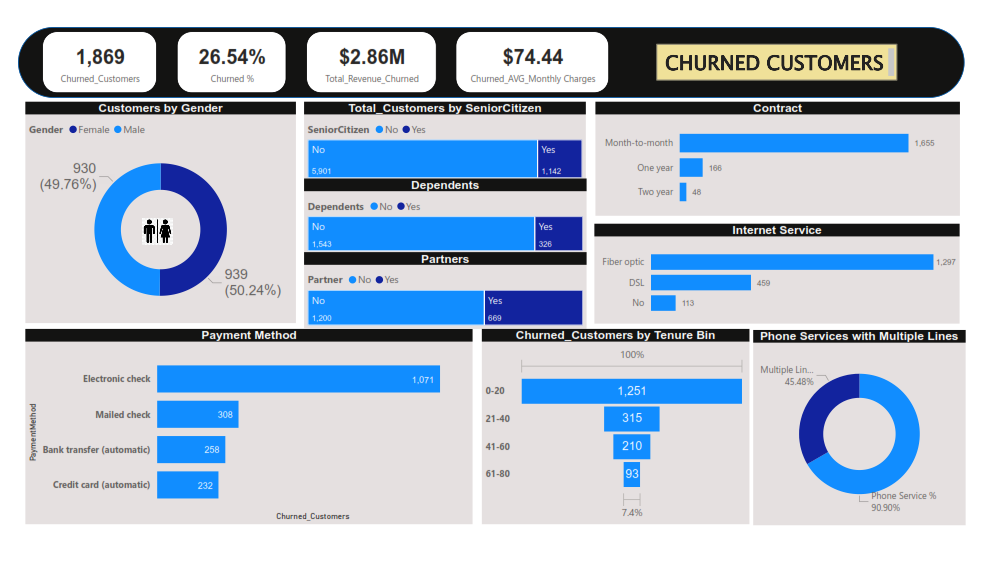

What the dashboard file says about the page in this screenshot:
{"tool":"powerbi","page":{"name":"Churned Customers","canvas":[1280,720],"ordinal":0},"visuals":[{"type":"shape","box":[0,9.9,1270.1,94.6],"z":0},{"type":"card","fields":{"Values":["Measure.Churned %"]},"box":[213.1,15.6,147.4,83.3],"z":1000},{"type":"card","fields":{"Values":["Measure.Churned Customers"]},"box":[33,15.6,154.4,83.3],"z":2000},{"type":"group","id":"g1","title":"Group 1","box":[9.7,109.9,362.8,297.3],"z":3000},{"type":"donutChart","title":"Customers by Gender","fields":{"Y":["CountNonNull(Churn-Dataset.gender)"],"Series":["Churn-Dataset.gender"]},"box":[9.7,109.9,362.8,297.3],"z":4000,"group":"g1"},{"type":"treemap","fields":{"Values":["Measure.Total_Customers"],"Group":["Churn-Dataset.SeniorCitizen"]},"box":[384.5,110.1,378.2,107.3],"z":4000},{"type":"card","fields":{"Values":["Measure.Total Revenue"]},"box":[386.4,15.6,175.2,83.3],"z":5000},{"type":"clusteredBarChart","title":"Payment Method","fields":{"Category":["Churn-Dataset.PaymentMethod"],"Y":["Measure.Churned_Customers"]},"box":[9.5,415.6,600.5,262.3],"z":6000},{"type":"barChart","title":"Contract","fields":{"Category":["Churn-Dataset.Contract"],"Y":["Measure.Churned_Customers"]},"box":[774.4,110.3,488.8,153.5],"z":7000},{"type":"image","box":[156.5,261.6,60.7,44.9],"z":8000,"group":"g1"},{"type":"treemap","title":"Dependents","fields":{"Group":["Churn-Dataset.Dependents"],"Values":["Measure.Churned_Customers"]},"box":[384,213.5,378.8,102.1],"z":8000},{"type":"treemap","title":"Partners","fields":{"Group":["Churn-Dataset.Partner"],"Values":["Measure.Churned_Customers"]},"box":[384,311.8,378.8,103.2],"z":9000},{"type":"barChart","title":"Internet Service","fields":{"Category":["Churn-Dataset.InternetService"],"Y":["Measure.Churned_Customers"]},"box":[772.9,274.2,490.2,134.1],"z":10000},{"type":"funnel","fields":{"Y":["Measure.Churned_Customers"],"Category":["Churn-Dataset.Tenure Bin"]},"box":[622.6,415.6,358.7,262.3],"z":11000},{"type":"donutChart","title":"Phone Services with Multiple Lines","fields":{"Y":["Measure.Phone Service %","Measure.Multiple Lines %"]},"box":[986.4,415.7,284.6,262.3],"z":12000},{"type":"card","fields":{"Values":["Measure.Churned_AVG_Monthly Charges"]},"box":[587.3,16,206.4,83],"z":13000},{"type":"textbox","box":[856.8,33,322.6,48.6],"z":14000}]}

Visuals, with their boxes on the page's 1280x720 design canvas (x1, y1, x2, y2). These are canvas units, not pixel positions in the 996x576 screenshot, which may show the page scaled, cropped or inside an application window:
shape: left=0, top=10, right=1270, bottom=104
card - Measure.Churned %: left=213, top=16, right=360, bottom=99
card - Measure.Churned Customers: left=33, top=16, right=187, bottom=99
"Group 1" group: left=10, top=110, right=372, bottom=407
"Customers by Gender" donutChart: left=10, top=110, right=372, bottom=407
treemap - Measure.Total_Customers x Churn-Dataset.SeniorCitizen: left=384, top=110, right=763, bottom=217
card - Measure.Total Revenue: left=386, top=16, right=562, bottom=99
"Payment Method" clusteredBarChart: left=10, top=416, right=610, bottom=678
"Contract" barChart: left=774, top=110, right=1263, bottom=264
image: left=156, top=262, right=217, bottom=306
"Dependents" treemap: left=384, top=214, right=763, bottom=316
"Partners" treemap: left=384, top=312, right=763, bottom=415
"Internet Service" barChart: left=773, top=274, right=1263, bottom=408
funnel - Measure.Churned_Customers x Churn-Dataset.Tenure Bin: left=623, top=416, right=981, bottom=678
"Phone Services with Multiple Lines" donutChart: left=986, top=416, right=1271, bottom=678
card - Measure.Churned_AVG_Monthly Charges: left=587, top=16, right=794, bottom=99
textbox: left=857, top=33, right=1179, bottom=82
